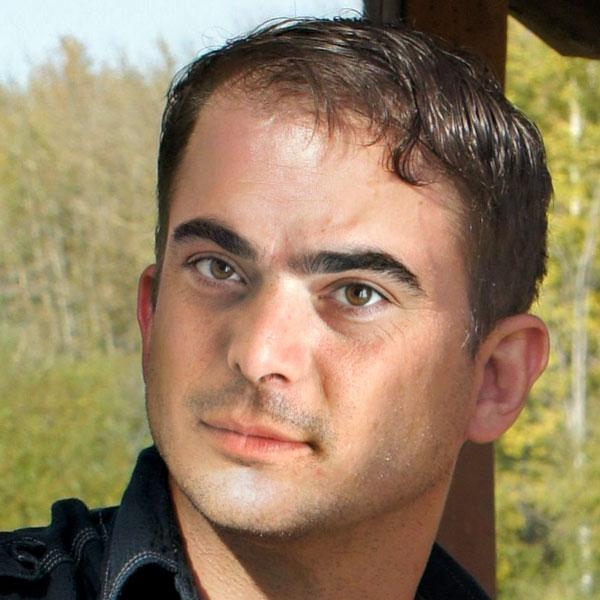Eyes: (312, 269, 401, 326), (178, 240, 255, 296)
